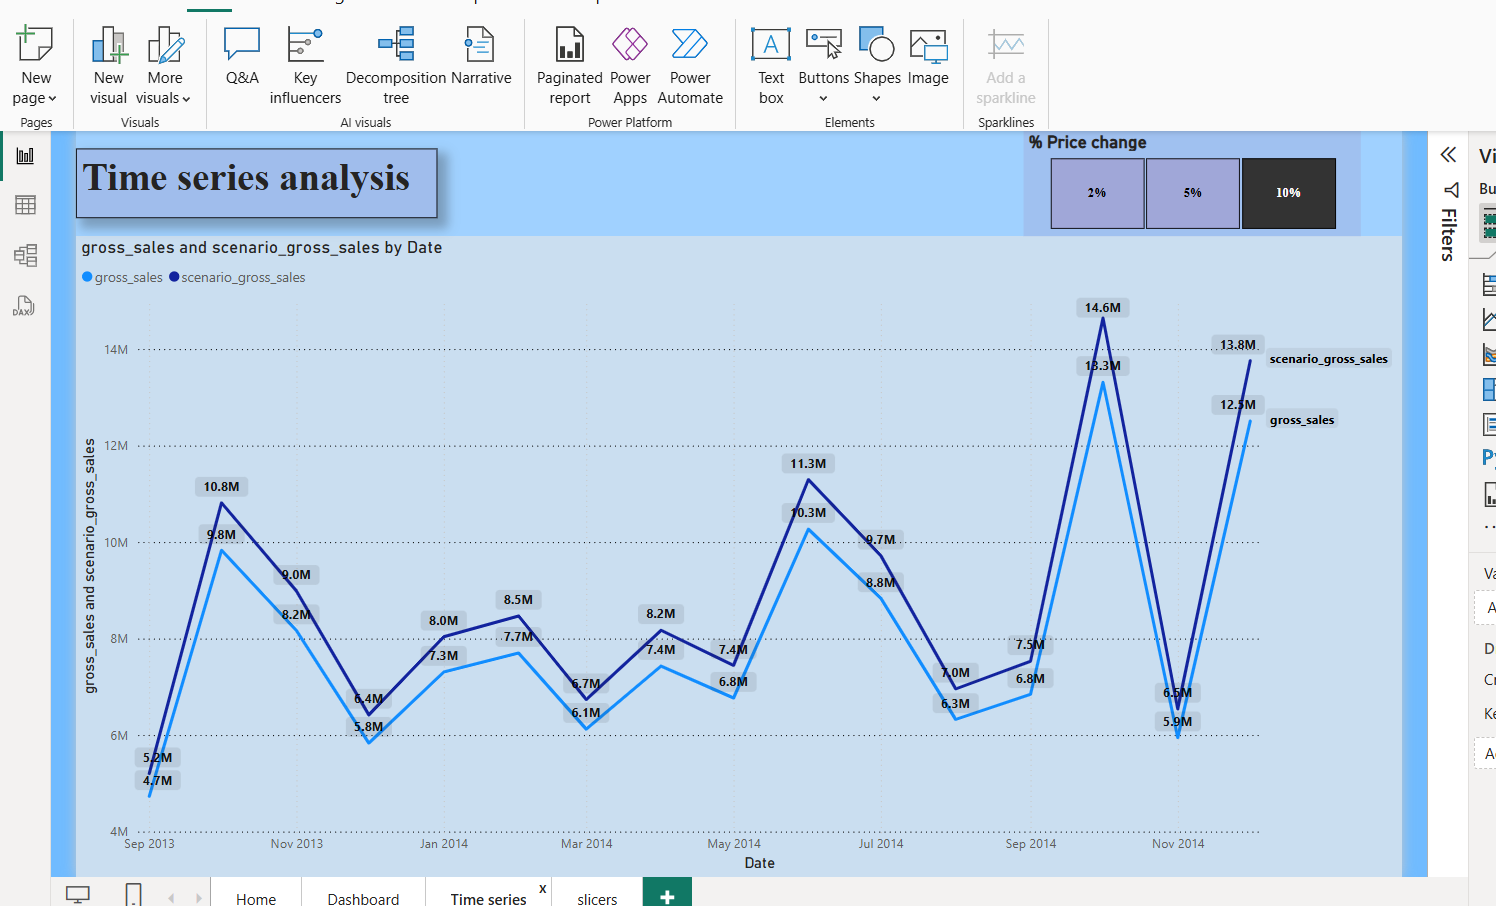

The dashboard page shown, as its layout file describes it:
{"tool":"powerbi","page":{"name":"Time series","canvas":[1280,720],"ordinal":2},"visuals":[{"type":"lineChart","fields":{"Y":["Dax_Measures.gross_sales","Dax_Measures.scenario_gross_sales"],"Category":["calender.Date"]},"box":[0,101.3,1280,618.9],"z":0},{"type":"slicer","title":"% Price change","fields":{"Values":["Percentage_price.Price_Change"]},"box":[914.7,0,325.3,101.5],"z":1},{"type":"textbox","box":[0,17.1,348.5,67.3],"z":2}]}

Visuals, with their boxes on the page's 1280x720 design canvas (x1, y1, x2, y2). These are canvas units, not pixel positions in the 1496x906 screenshot, which may show the page scaled, cropped or inside an application window:
lineChart - Dax_Measures.gross_sales x Dax_Measures.scenario_gross_sales: locate(0, 101, 1280, 720)
"% Price change" slicer: locate(915, 0, 1240, 102)
textbox: locate(0, 17, 348, 84)
